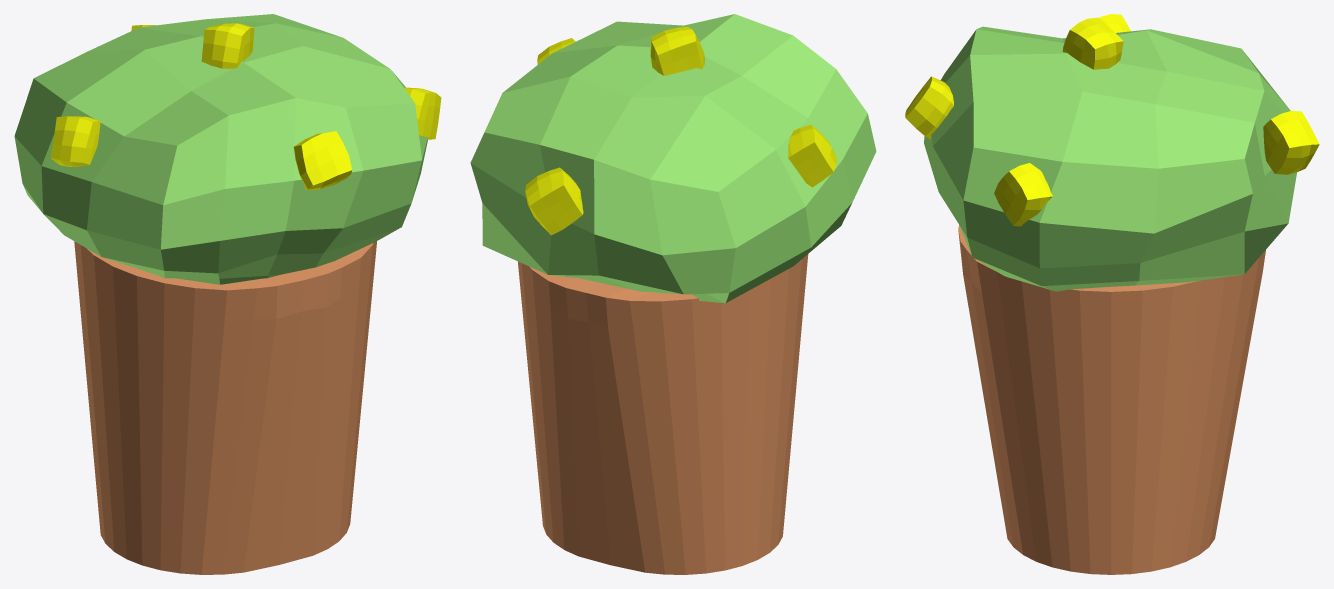
File: MacetaCortaConPlantas.fbx
The picture shows the model from 3 angles, left to right: view 1: azimuth 30°, elevation 25°; view 2: azimuth 150°, elevation 25°; view 3: azimuth 270°, elevation 25°; orthographic projection. The views are drawn at different scales.
Parts seen in each view (by area): view 1: Cube, Cylinder, Cube.001, Cube.003, Cube.005, Cube.002; view 2: Cube, Cylinder, Cube.004, Cube.005, Cube.003; view 3: Cube, Cylinder, Cube.004, Cube.002, Cube.005, Cube.001.
Boxes of the visible parts, x1,y1,x2,y2 form: Cube: (14,14,427,284); Cylinder: (74,241,376,574); Cube.001: (293,131,352,190); Cube.003: (50,116,100,166); Cube.005: (201,23,254,68); Cube.002: (404,87,441,139); Cube: (470,14,876,303); Cylinder: (518,254,808,574); Cube.004: (525,167,583,235); Cube.005: (650,26,704,75); Cube.003: (788,124,837,187); Cube: (924,26,1296,291); Cylinder: (958,225,1265,574); Cube.004: (1263,111,1319,174); Cube.002: (994,163,1053,226); Cube.005: (1062,17,1123,69); Cube.001: (905,76,953,139).
Size of the model in its own units: 33.22 by 46.25 by 35.18.
